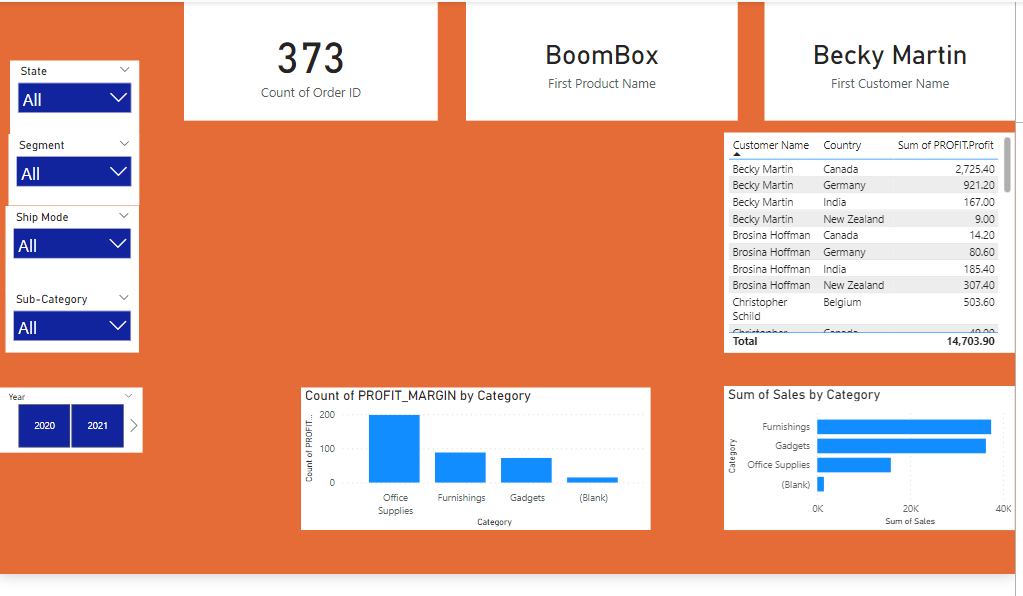

What the dashboard file says about the page in this screenshot:
{"tool":"powerbi","page":{"name":"Customer","canvas":[1280,720],"ordinal":2},"visuals":[{"type":"slicer","fields":{"Values":["SALES_PROFIT.State"]},"box":[14.2,72.8,163,93.4],"z":0},{"type":"slicer","fields":{"Values":["SALES_PROFIT.Ship Mode"]},"box":[9.5,256.4,167.7,104.4],"z":1000},{"type":"slicer","fields":{"Values":["SALES_PROFIT.Segment"]},"box":[12.7,166.2,164.6,90.2],"z":2000},{"type":"slicer","fields":{"Values":["SALES_PROFIT.Year"]},"box":[0,485.8,182,82.3],"z":3000},{"type":"slicer","fields":{"Values":["SALES_PROFIT.Sub-Category"]},"box":[9.5,360.8,167.7,80.7],"z":4000},{"type":"card","fields":{"Values":["SALES_PROFIT.Customer Name"]},"box":[964.1,0,315.7,149.3],"z":4001},{"type":"card","fields":{"Values":["SALES_PROFIT.Product Name"]},"box":[589,0,341.7,149.1],"z":4002},{"type":"card","fields":{"Values":["SALES_PROFIT.Order ID"]},"box":[234.1,0,319.1,149.1],"z":4003},{"type":"tableEx","fields":{"Values":["SALES_PROFIT.Customer Name","SALES_PROFIT.Country","SALES_PROFIT.PROFIT.Profit"]},"box":[913.7,164.2,366.3,277.5],"z":4004},{"type":"barChart","fields":{"Y":["SALES_PROFIT.Sales"],"Category":["SALES_PROFIT.Category"]},"box":[913.7,483.3,366.3,181.2],"z":4005},{"type":"columnChart","fields":{"Category":["SALES_PROFIT.Category"],"Y":["SALES_PROFIT.PROFIT_MARGIN"]},"box":[381.4,485.2,439.9,179.4],"z":4006}]}

Visuals, with their boxes in screenshot pixels (x1, y1, x2, y2):
slicer - SALES_PROFIT.State: [x1=11, y1=60, x2=140, y2=134]
slicer - SALES_PROFIT.Ship Mode: [x1=7, y1=205, x2=140, y2=287]
slicer - SALES_PROFIT.Segment: [x1=10, y1=134, x2=140, y2=205]
slicer - SALES_PROFIT.Year: [x1=0, y1=386, x2=143, y2=450]
slicer - SALES_PROFIT.Sub-Category: [x1=7, y1=287, x2=140, y2=351]
card - SALES_PROFIT.Customer Name: [x1=760, y1=3, x2=1009, y2=120]
card - SALES_PROFIT.Product Name: [x1=464, y1=3, x2=734, y2=120]
card - SALES_PROFIT.Order ID: [x1=185, y1=3, x2=436, y2=120]
tableEx - SALES_PROFIT.Customer Name x SALES_PROFIT.Country: [x1=720, y1=132, x2=1009, y2=351]
barChart - SALES_PROFIT.Sales x SALES_PROFIT.Category: [x1=720, y1=384, x2=1009, y2=526]
columnChart - SALES_PROFIT.Category x SALES_PROFIT.PROFIT_MARGIN: [x1=301, y1=385, x2=647, y2=526]
